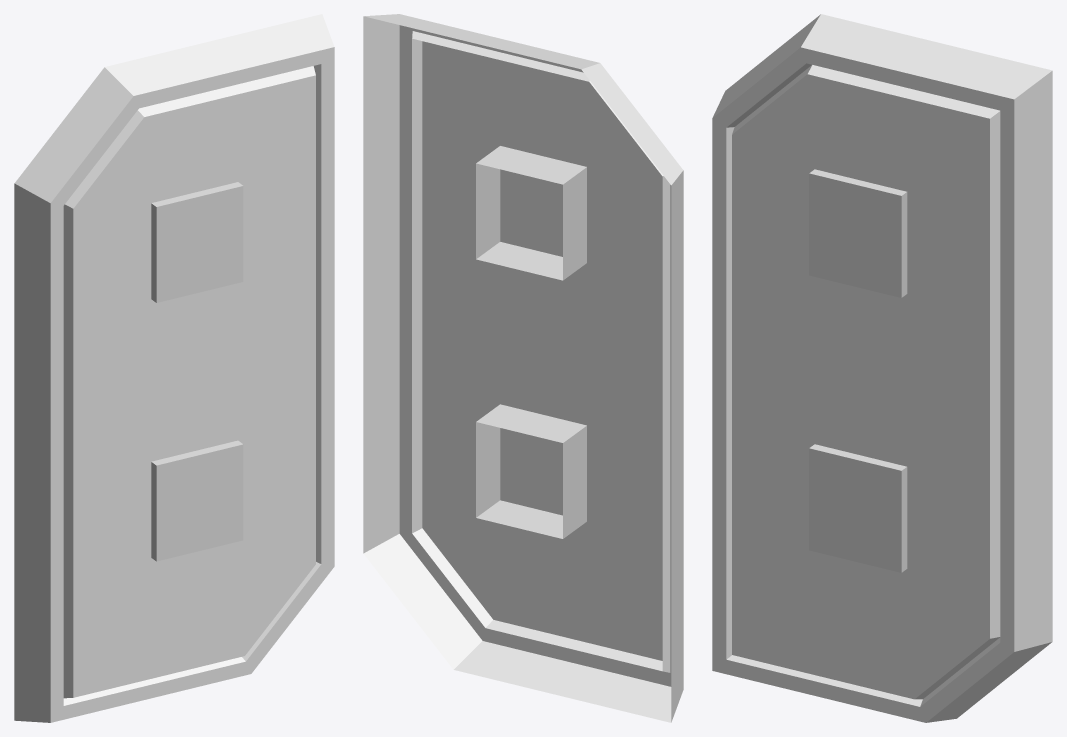
The model's file is Details_Basic_2.001.fbx.
3 views of the same model, side by side, from view 1: azimuth 30°, elevation 25°; view 2: azimuth 150°, elevation 25°; view 3: azimuth 330°, elevation 25° (orthographic). The views are drawn at different scales.
Parts seen in each view (by area): view 1: Details_Basic_2.001; view 2: Details_Basic_2.001; view 3: Details_Basic_2.001.
Part boxes in pixels (x1=…): Details_Basic_2.001: x1=14, y1=14, x2=334, y2=722; Details_Basic_2.001: x1=363, y1=14, x2=683, y2=722; Details_Basic_2.001: x1=712, y1=14, x2=1052, y2=722.
Size of the model in its own units: 0.2699 by 0.5292 by 0.048.
